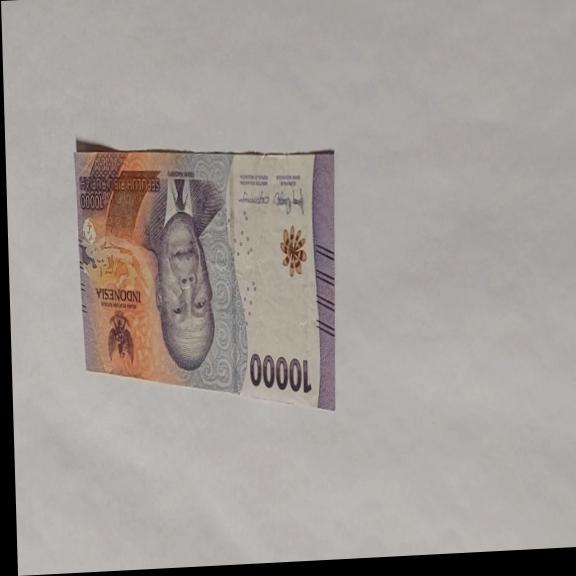Kertas: (72, 133, 341, 425), (247, 348, 313, 398)
